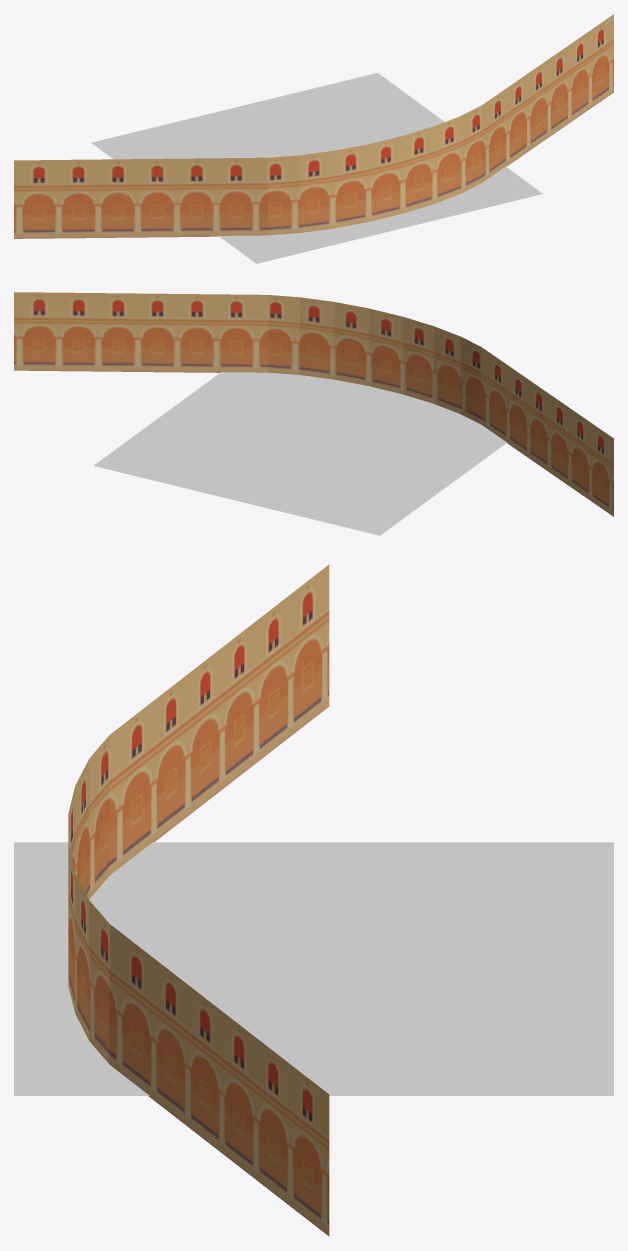
Rendered from cenario.fbx.
The picture shows the model from 3 angles, top to bottom: view 1: azimuth 30°, elevation 25°; view 2: azimuth 150°, elevation 25°; view 3: azimuth 270°, elevation 25°; orthographic projection. The views are drawn at different scales.
Parts seen in each view (by area): view 1: Plane.001, Plane.003; view 2: Plane.001, Plane.003; view 3: Plane.003, Plane.001.
Boxes of the visible parts, x1,y1,x2,y2 form: Plane.001: (14, 14, 613, 238); Plane.003: (91, 73, 542, 263); Plane.001: (14, 292, 613, 516); Plane.003: (93, 372, 506, 535); Plane.003: (14, 842, 613, 1095); Plane.001: (68, 564, 329, 1236).
Size of the model in its own units: 43298 by 5412 by 20694.
Materials: 2 (1 with a texture image).
